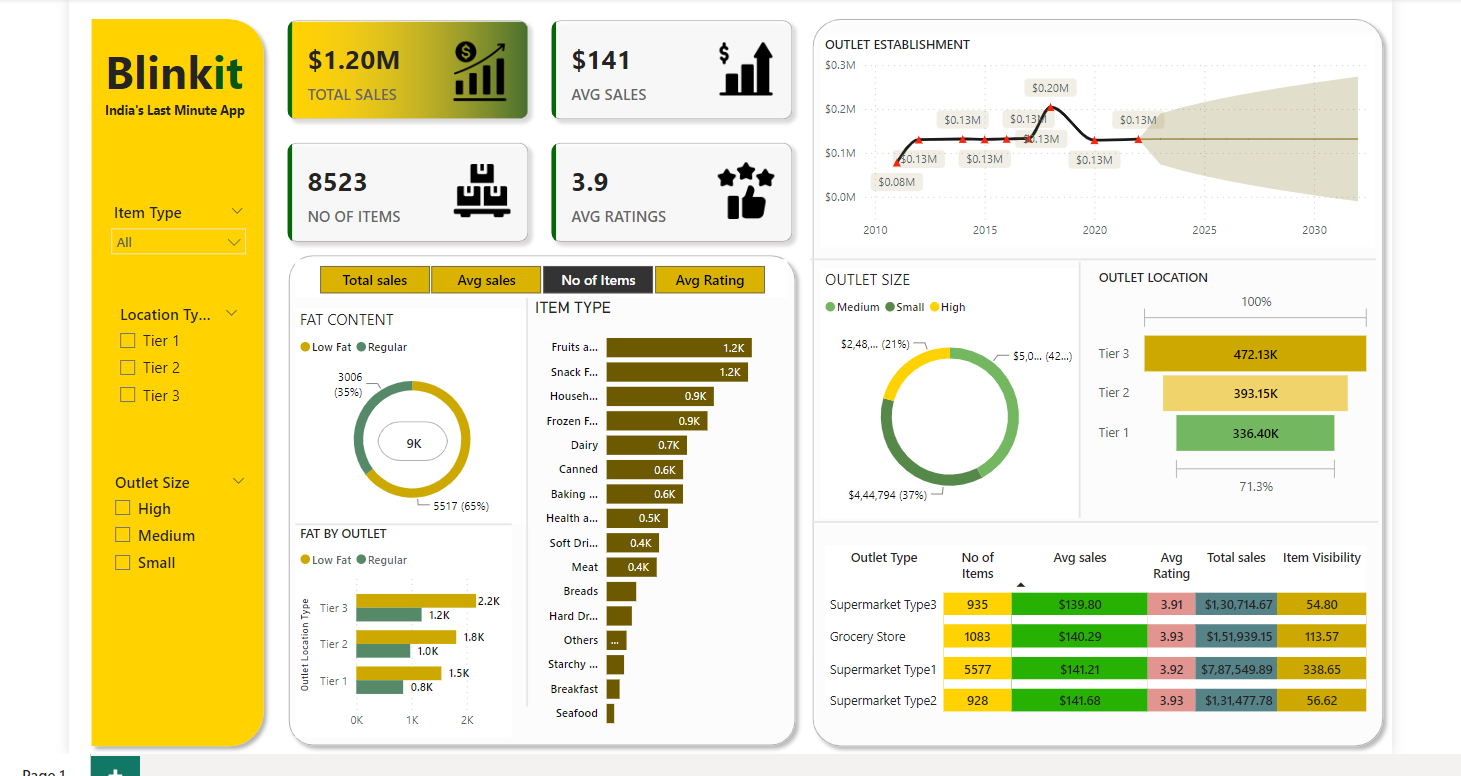

This screenshot's page, from the dashboard's own definition file:
{"tool":"powerbi","page":{"name":"Page 1","canvas":[1400,800],"ordinal":0},"visuals":[{"type":"shape","box":[14.2,12.6,200.4,787.4],"z":0},{"type":"textbox","box":[33.1,39.5,181.5,74.2],"z":1000},{"type":"textbox","box":[33.1,104.1,181.5,37.9],"z":2000},{"type":"cardVisual","fields":{"Data":["BlinkIT Grocery Data.Total sales","BlinkIT Grocery Data.Avg sales","BlinkIT Grocery Data.No of Items","BlinkIT Grocery Data.Avg Rating"]},"box":[214.6,6.3,569.7,269.8],"z":3000},{"type":"shape","box":[224.1,263.5,553.9,536.5],"z":4000},{"type":"donutChart","title":"FAT CONTENT","fields":{"Y":["BlinkIT Grocery Data.No of Items"],"Category":["BlinkIT Grocery Data.Item Fat Content"]},"box":[239.9,328.2,247.7,228.8],"z":5000},{"type":"slicer","fields":{"Values":["Metric.Metric"]},"box":[239.9,276.2,520.7,41],"z":6000},{"type":"clusteredBarChart","title":"FAT BY OUTLET","fields":{"Y":["BlinkIT Grocery Data.No of Items"],"Category":["BlinkIT Grocery Data.Outlet Location Type"],"Series":["BlinkIT Grocery Data.Item Fat Content"]},"box":[239.9,557,228.8,225.7],"z":7000},{"type":"shape","box":[468.7,317.2,33.1,432.4],"z":8000},{"type":"shape","box":[239.9,527.1,228.8,58.4],"z":9000},{"type":"barChart","title":"ITEM TYPE","fields":{"Y":["BlinkIT Grocery Data.No of Items"],"Category":["BlinkIT Grocery Data.Item Type"]},"box":[487.6,317.2,273,465.5],"z":10000},{"type":"cardVisual","fields":{"Data":["BlinkIT Grocery Data.No of Items"]},"box":[321.9,443.4,85.2,52.1],"z":11000},{"type":"shape","box":[778,12.6,621.7,787.4],"z":12000},{"type":"lineChart","title":" OUTLET ESTABLISHMENT","fields":{"Category":["BlinkIT Grocery Data.Outlet Establishment Year"],"Y":["BlinkIT Grocery Data.Total sales"]},"box":[795.3,39.5,587,224.1],"z":13000},{"type":"shape","box":[784.3,247.7,598.1,58.4],"z":14000},{"type":"donutChart","title":"OUTLET SIZE","fields":{"Y":["BlinkIT Grocery Data.Total sales"],"Category":["BlinkIT Grocery Data.Outlet Size"]},"box":[795.3,285.6,274.6,265.1],"z":15000},{"type":"shape","box":[1052.5,279.3,33.1,271.4],"z":16000},{"type":"funnel","title":"OUTLET LOCATION","fields":{"Y":["Sum(BlinkIT Grocery Data.Sales)"],"Category":["BlinkIT Grocery Data.Outlet Location Type"]},"box":[1084.1,285.6,298.2,247.7],"z":17000},{"type":"shape","box":[787.4,525.5,598.1,58.4],"z":18000},{"type":"pivotTable","fields":{"Rows":["BlinkIT Grocery Data.Outlet Type"],"Values":["BlinkIT Grocery Data.No of Items","BlinkIT Grocery Data.Avg sales","BlinkIT Grocery Data.Avg Rating","BlinkIT Grocery Data.Total sales","Sum(BlinkIT Grocery Data.Item Visibility)"]},"box":[795.3,574.4,587,208.3],"z":19000},{"type":"slicer","fields":{"Values":["BlinkIT Grocery Data.Outlet Size"]},"box":[36.3,495.5,162.5,213],"z":20000},{"type":"slicer","fields":{"Values":["BlinkIT Grocery Data.Item Type"]},"box":[34.7,209.9,162.5,75.7],"z":21000},{"type":"slicer","fields":{"Values":["BlinkIT Grocery Data.Outlet Location Type"]},"box":[41,318.8,149.9,124.7],"z":21001}]}

Visuals, with their boxes on the page's 1400x800 design canvas (x1, y1, x2, y2). These are canvas units, not pixel positions in the 1461x776 screenshot, which may show the page scaled, cropped or inside an application window:
shape: rect(14, 13, 215, 800)
textbox: rect(33, 40, 215, 114)
textbox: rect(33, 104, 215, 142)
cardVisual - BlinkIT Grocery Data.Total sales x BlinkIT Grocery Data.Avg sales: rect(215, 6, 784, 276)
shape: rect(224, 264, 778, 800)
"FAT CONTENT" donutChart: rect(240, 328, 488, 557)
slicer - Metric.Metric: rect(240, 276, 761, 317)
"FAT BY OUTLET" clusteredBarChart: rect(240, 557, 469, 783)
shape: rect(469, 317, 502, 750)
shape: rect(240, 527, 469, 586)
"ITEM TYPE" barChart: rect(488, 317, 761, 783)
cardVisual - BlinkIT Grocery Data.No of Items: rect(322, 443, 407, 496)
shape: rect(778, 13, 1400, 800)
" OUTLET ESTABLISHMENT" lineChart: rect(795, 40, 1382, 264)
shape: rect(784, 248, 1382, 306)
"OUTLET SIZE" donutChart: rect(795, 286, 1070, 551)
shape: rect(1052, 279, 1086, 551)
"OUTLET LOCATION" funnel: rect(1084, 286, 1382, 533)
shape: rect(787, 526, 1386, 584)
pivotTable - BlinkIT Grocery Data.Outlet Type x BlinkIT Grocery Data.No of Items: rect(795, 574, 1382, 783)
slicer - BlinkIT Grocery Data.Outlet Size: rect(36, 496, 199, 708)
slicer - BlinkIT Grocery Data.Item Type: rect(35, 210, 197, 286)
slicer - BlinkIT Grocery Data.Outlet Location Type: rect(41, 319, 191, 444)
